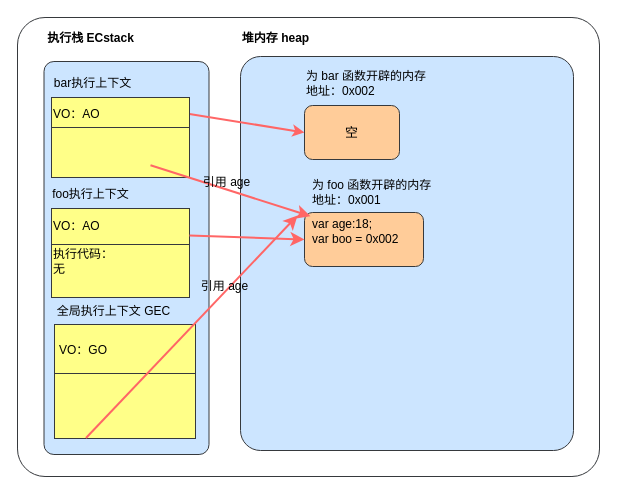
Image size: 617x494. Some labels were removed from this diagram. Here are the shapes that lost their labels. From the top down, the centre of each, then its label:
At point 120,152: "执行代码： console.log(age)".
At point 125,405: "执行代码： foo() var bar = foo() bar()".
